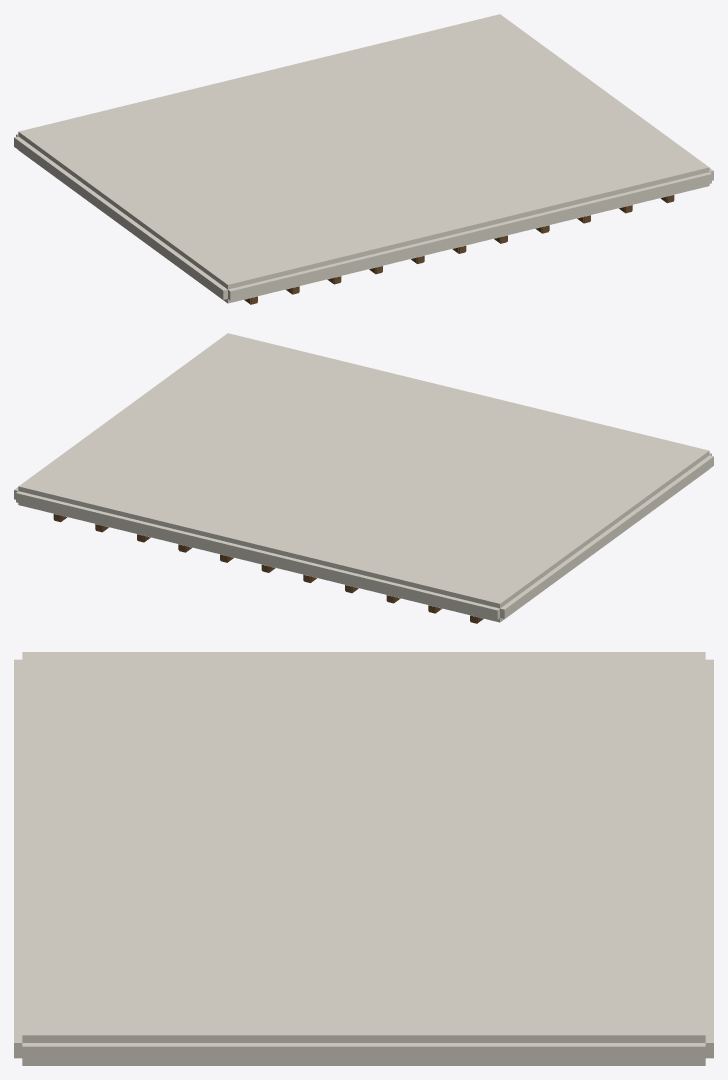
File: finish_v25_raft.glb
3 views of the same model, one above another, from view 1: azimuth 30°, elevation 25°; view 2: azimuth 150°, elevation 25°; view 3: azimuth 270°, elevation 25° (orthographic). The views are drawn at different scales.
Parts seen in each view (by area): view 1: finish_v25_raft_V25_limewash, finish_v25_raft_CC0_Oak_veneer; view 2: finish_v25_raft_V25_limewash, finish_v25_raft_CC0_Oak_veneer; view 3: finish_v25_raft_V25_limewash.
Part boxes in pixels (x1,y1,x2,y2): finish_v25_raft_V25_limewash: (14,14,713,303); finish_v25_raft_CC0_Oak_veneer: (244,195,674,304); finish_v25_raft_V25_limewash: (14,333,713,622); finish_v25_raft_CC0_Oak_veneer: (53,514,483,623); finish_v25_raft_V25_limewash: (14,652,713,1065).
Bounding box in the file's own units: 3.3 × 0.205 × 2.5.
3 materials, 1 textured.
